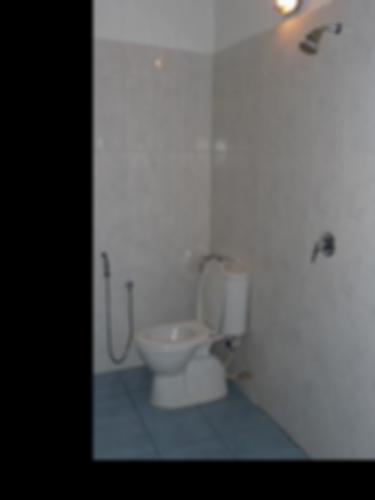Ducha: (252, 0, 375, 459)
